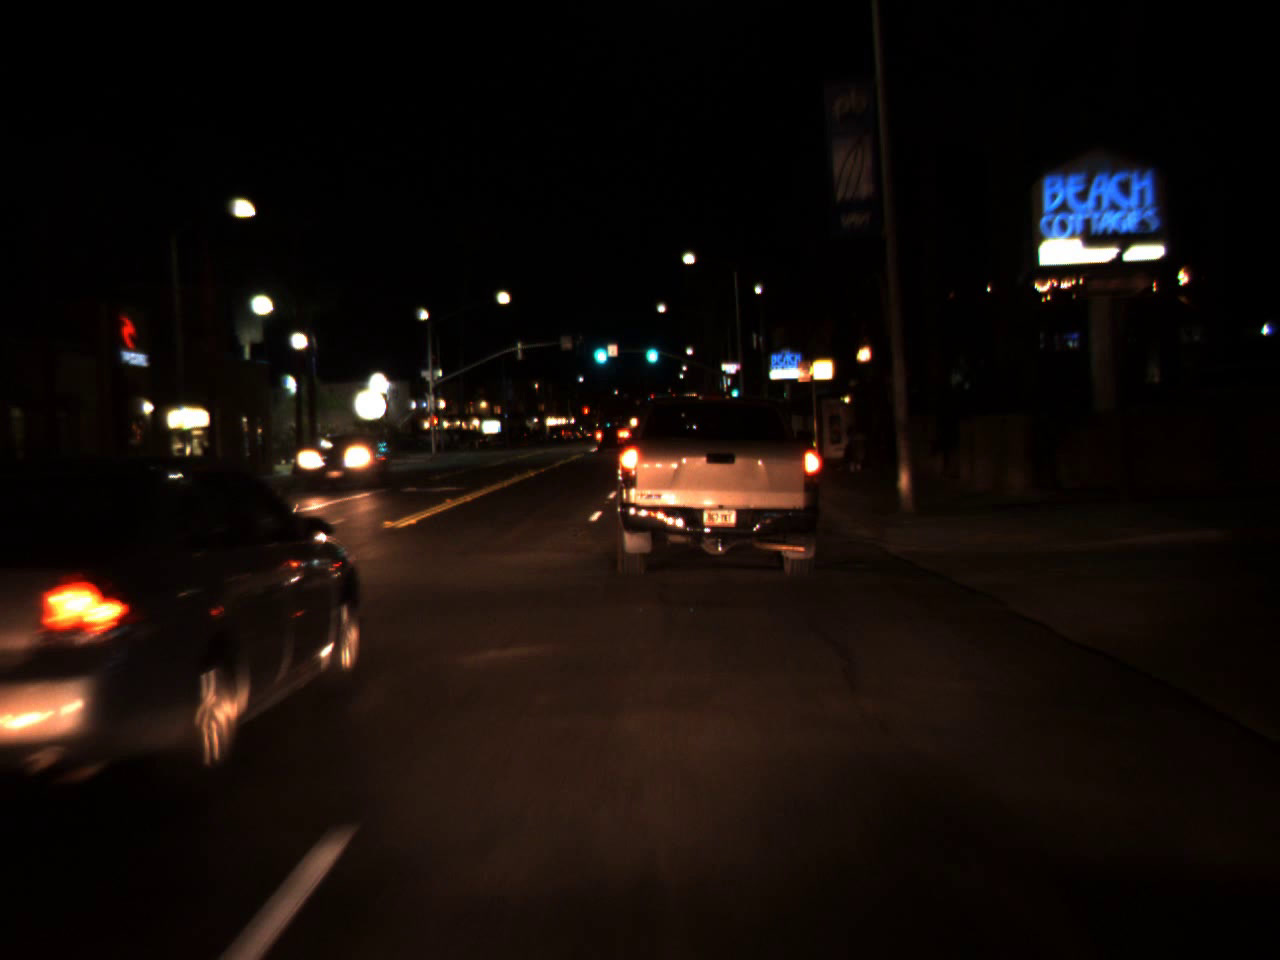go: (589, 330, 610, 369), (642, 332, 660, 368), (728, 378, 742, 399)
